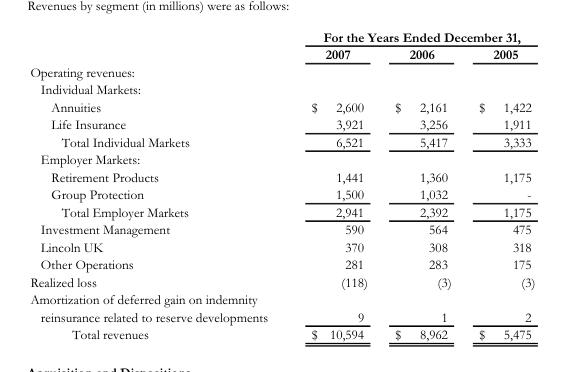table: (29, 29, 534, 341)
table column: (29, 29, 288, 341), (288, 29, 380, 341), (380, 29, 464, 341), (464, 29, 534, 341)
table column header: (29, 29, 534, 62)
table projected row header: (29, 62, 534, 80), (29, 80, 534, 97), (29, 150, 534, 167)
table row: (29, 290, 534, 325), (29, 62, 534, 80), (29, 97, 534, 115), (29, 132, 534, 150), (29, 167, 534, 185), (29, 202, 534, 220), (29, 237, 534, 255), (29, 272, 534, 290), (29, 45, 534, 62), (29, 80, 534, 97), (29, 115, 534, 132), (29, 150, 534, 167), (29, 185, 534, 202), (29, 220, 534, 237), (29, 255, 534, 272), (29, 29, 534, 45), (29, 325, 534, 341)
table spanning cell: (288, 29, 534, 45)
